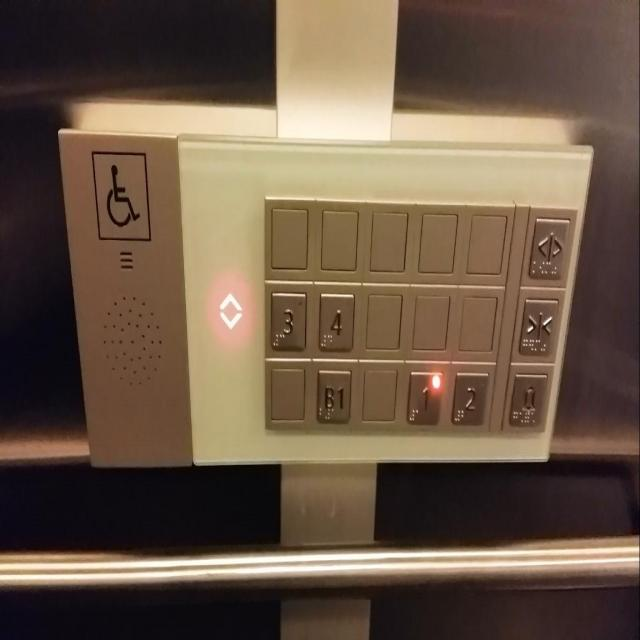1: (403, 364, 446, 434)
2: (449, 366, 491, 436)
3: (266, 288, 309, 358)
4: (314, 288, 356, 358)
B1: (316, 365, 353, 433)
CH: (88, 148, 152, 248)
alarm: (507, 368, 549, 434)
close: (516, 294, 560, 367)
empty: (464, 206, 506, 280), (458, 284, 500, 358), (416, 204, 458, 278), (410, 284, 452, 358), (367, 202, 409, 276), (362, 284, 404, 358), (358, 357, 400, 431), (319, 201, 361, 275), (270, 202, 312, 276), (266, 354, 308, 428)
open: (526, 211, 570, 283)
